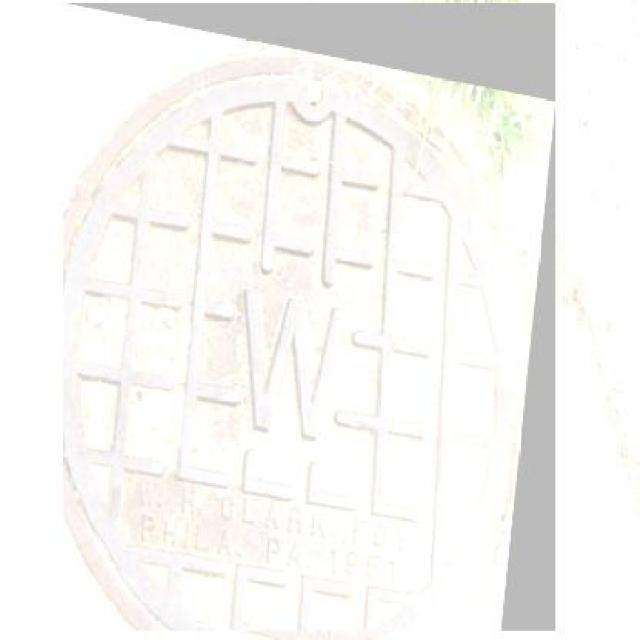Manhole: (62, 4, 556, 632)
